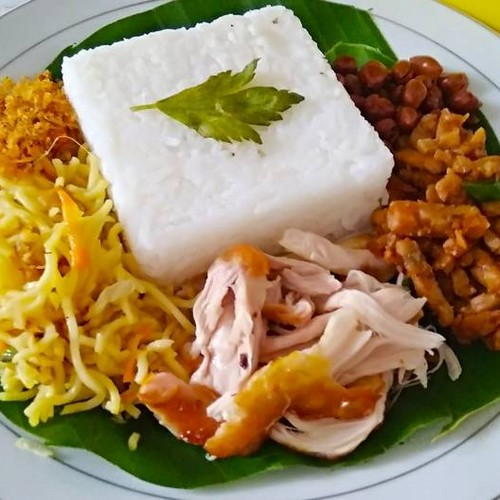nasi jinggo: (8, 33, 500, 453)
